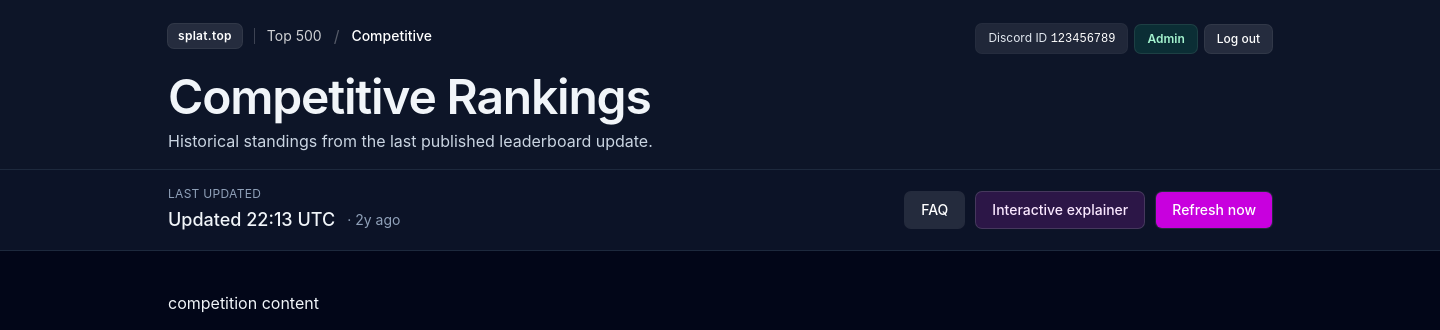
Scenario: Competition auth UI › runs a blocking backend snapshot refresh for admins before revalidating
The width and height of the screenshot is (1440, 330).
Expected: the text "123456789" is shown, x1=1051 y1=32 x2=1115 y2=46
Click the button "Refresh now" at (1214, 210), box x1=1156 y1=192 x2=1272 y2=228
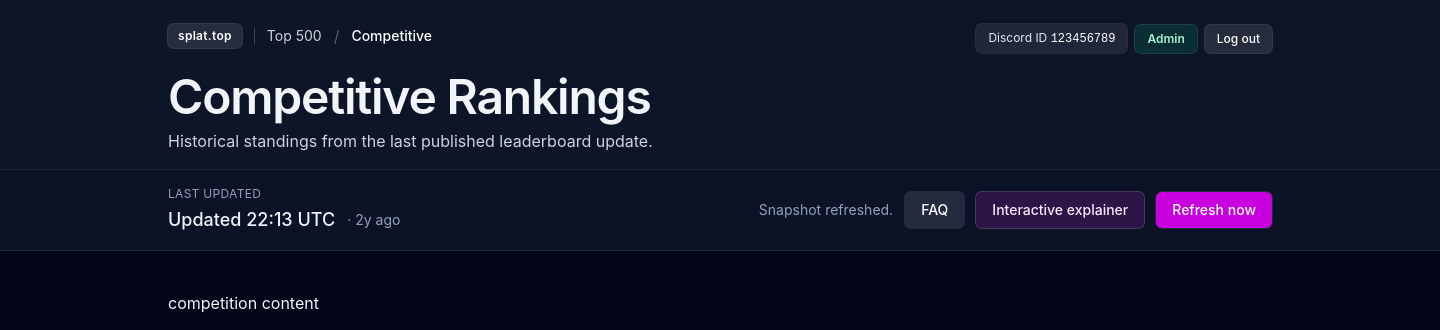
Expected: the text "Snapshot refreshed." is shown, x1=759 y1=200 x2=893 y2=220
